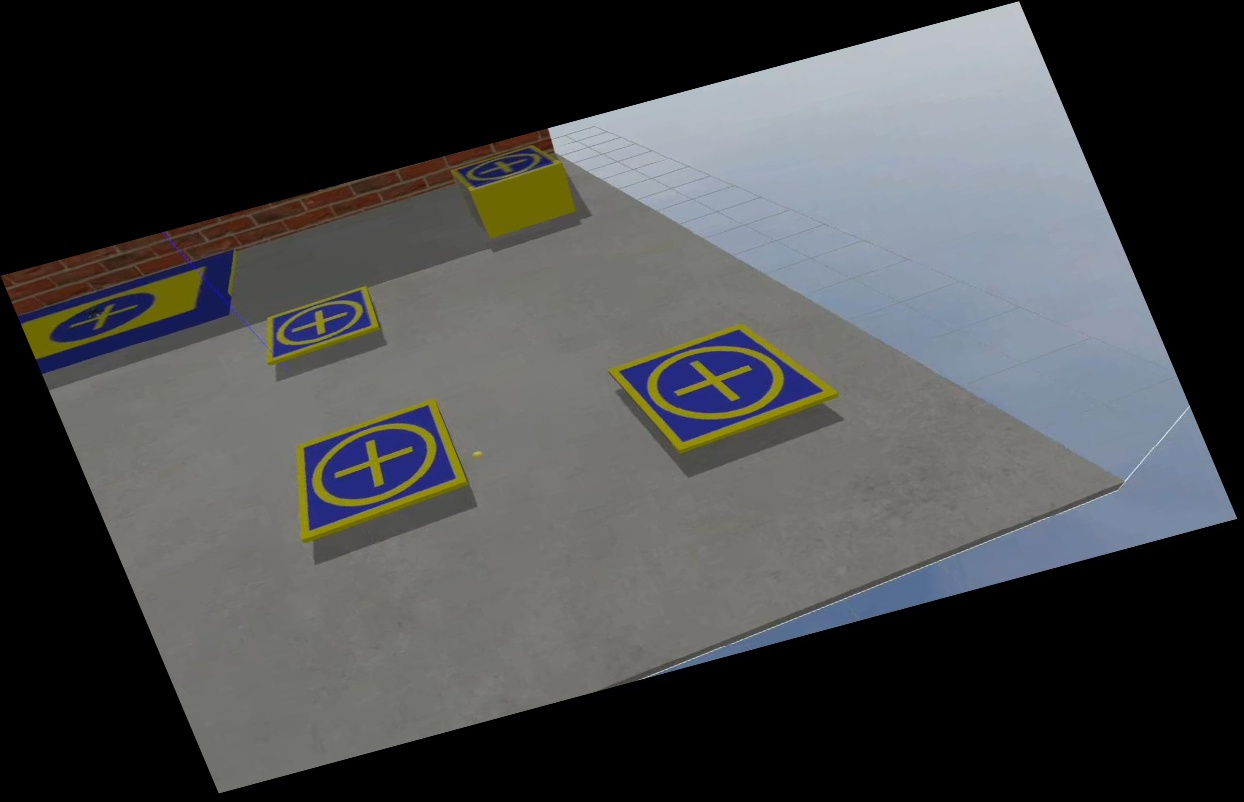large_base: (14, 246, 265, 372)
small_base: (605, 307, 848, 464), (262, 399, 482, 544), (247, 285, 390, 367), (449, 138, 566, 199)
